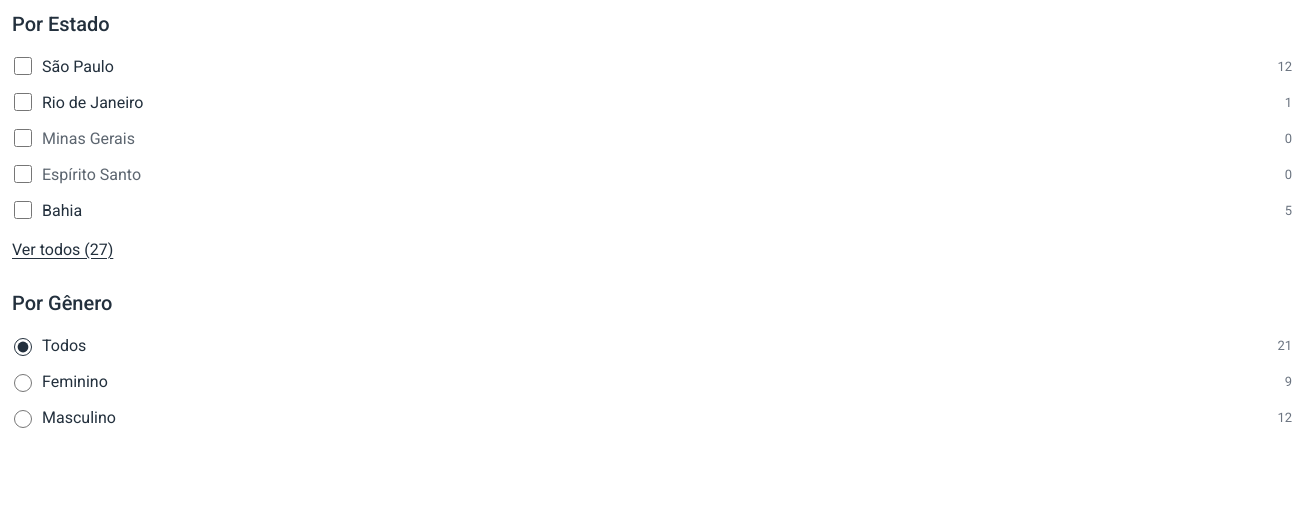
Test: FilterPanel clear button › is not there with no search and no filter, and shows up once one is picked
Click the checkbox labelled "Bahia 5": (23, 210) x1=14 y1=201 x2=32 y2=219
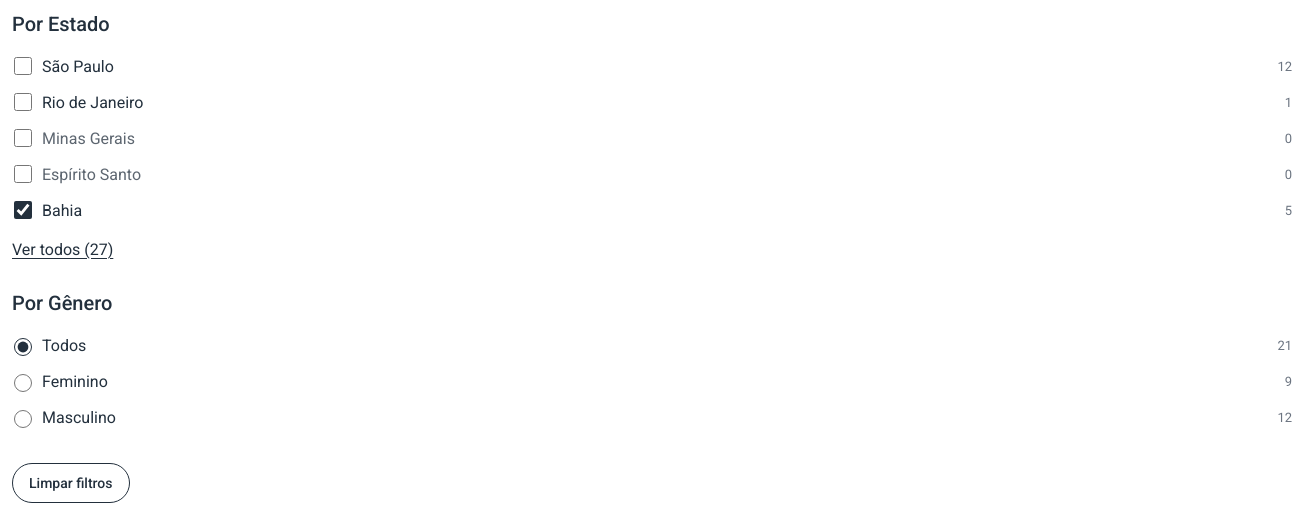
Expected: the button with test id "filter-panel__clear--button" is shown, x1=12 y1=463 x2=130 y2=503
